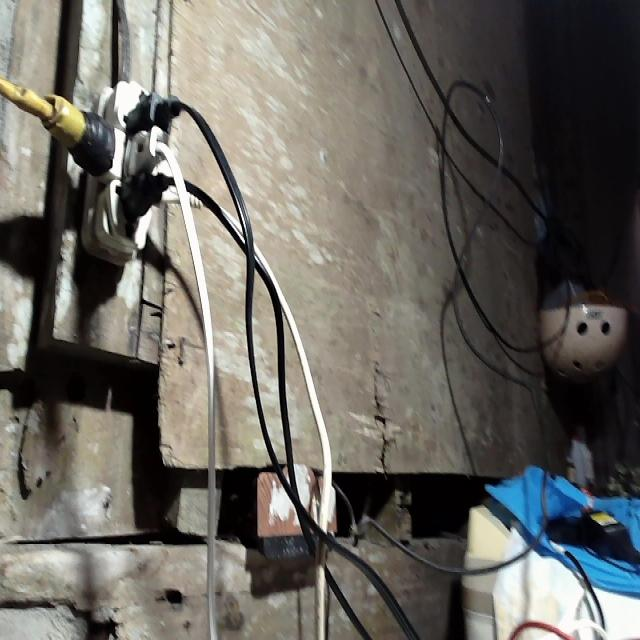-: (39, 77, 203, 266)
